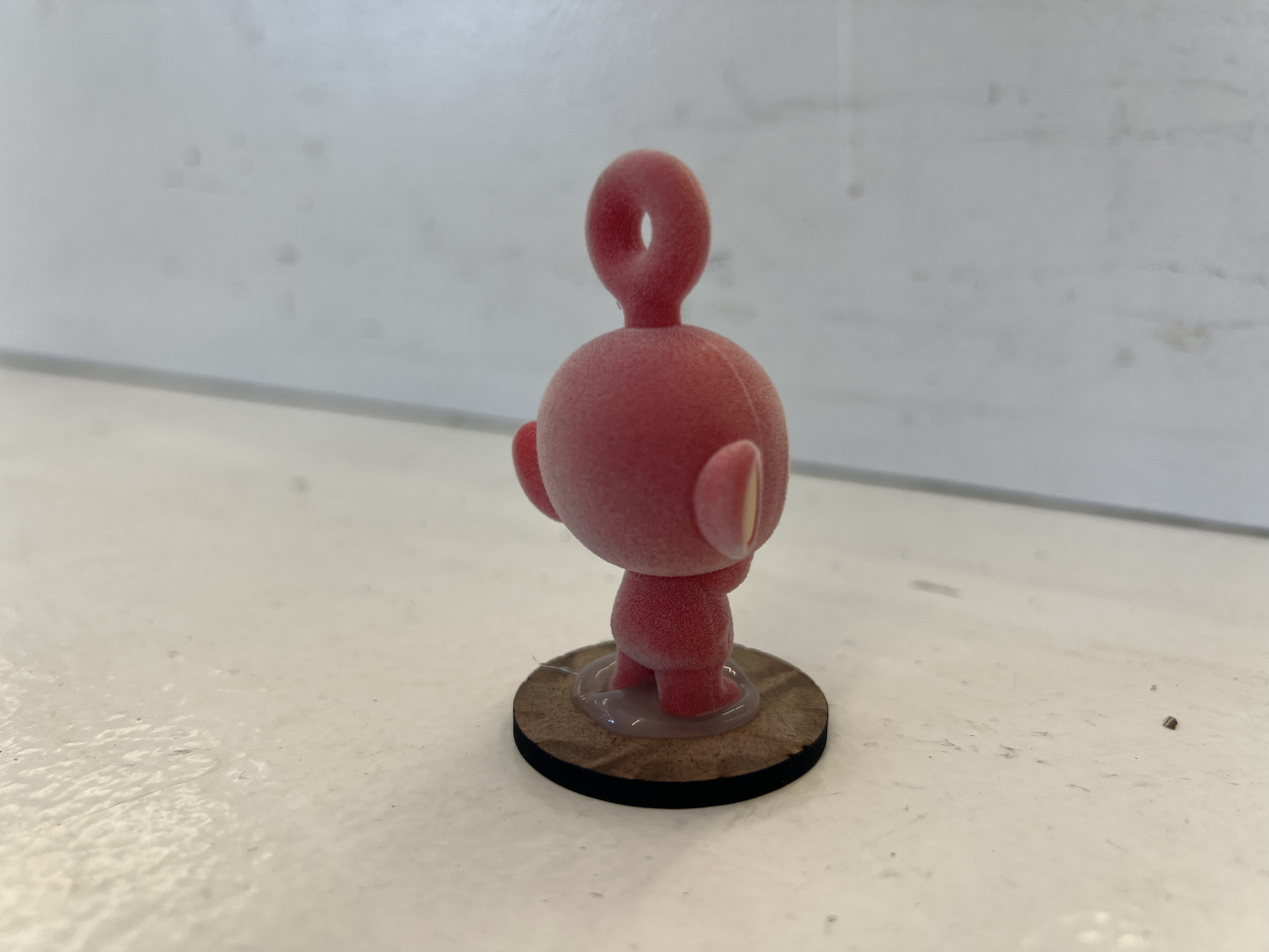teletubby: (513, 150, 788, 714)
